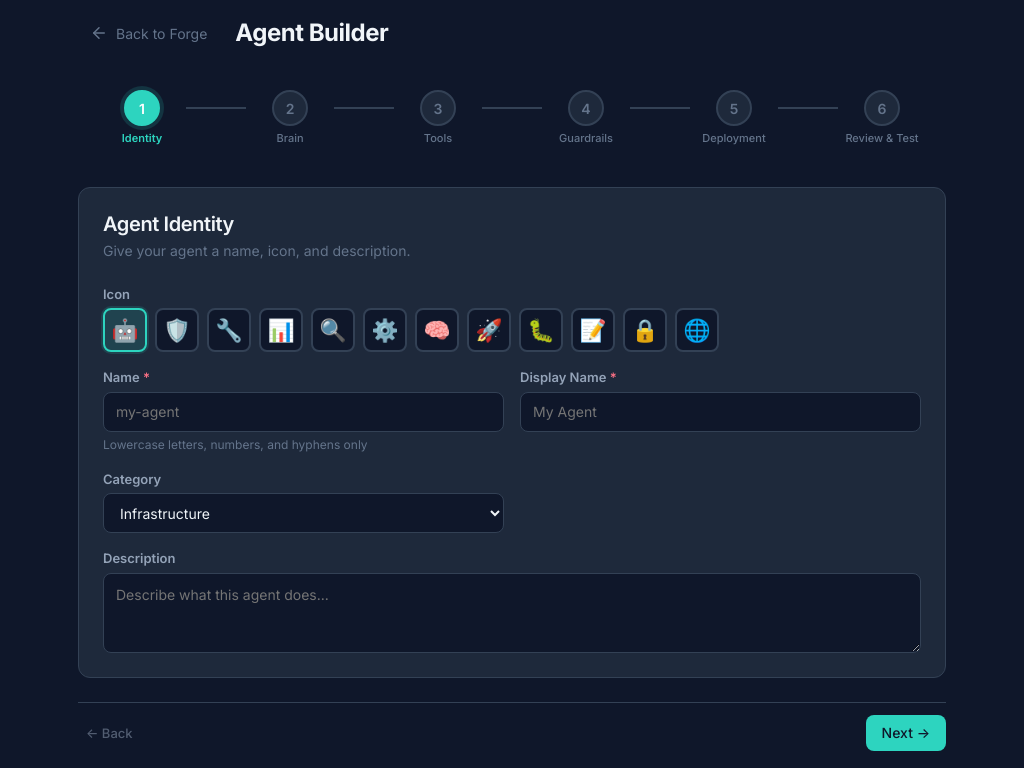
Test case: AgentBuilder › back button returns to previous step
# Advance to step 2
Type "test-agent" into the field with placeholder "my-agent" at x=304, y=412, box [103,392,504,432]
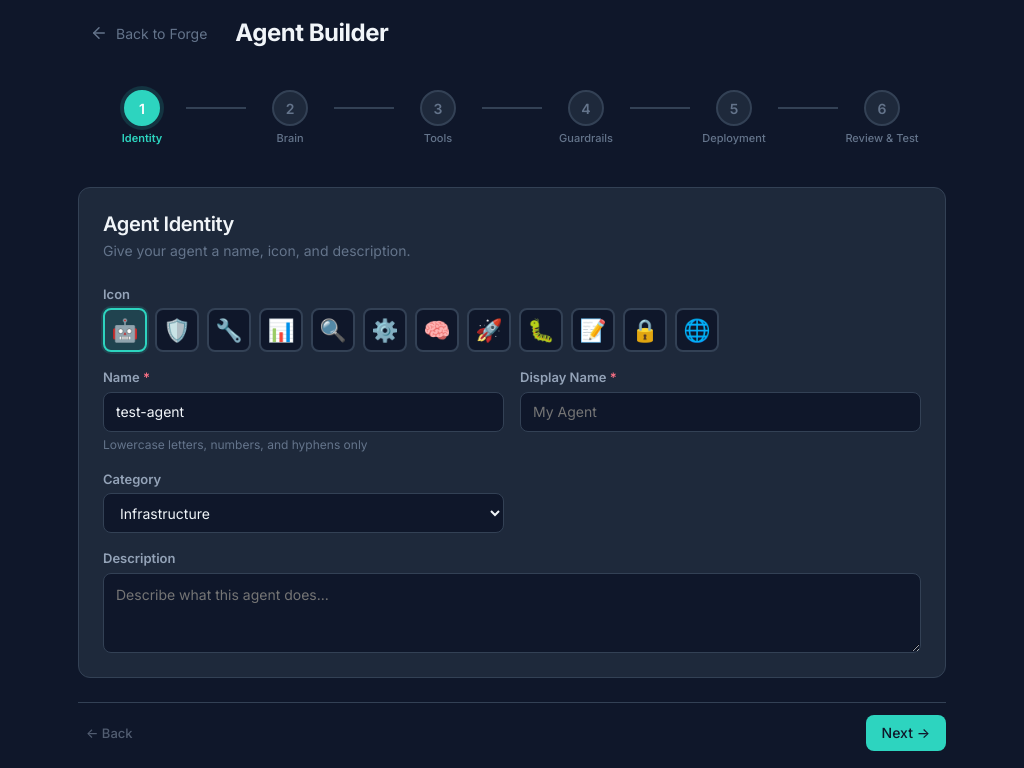
Type "Test Agent" into the field with placeholder "My Agent" at x=720, y=412, box [520,392,921,432]
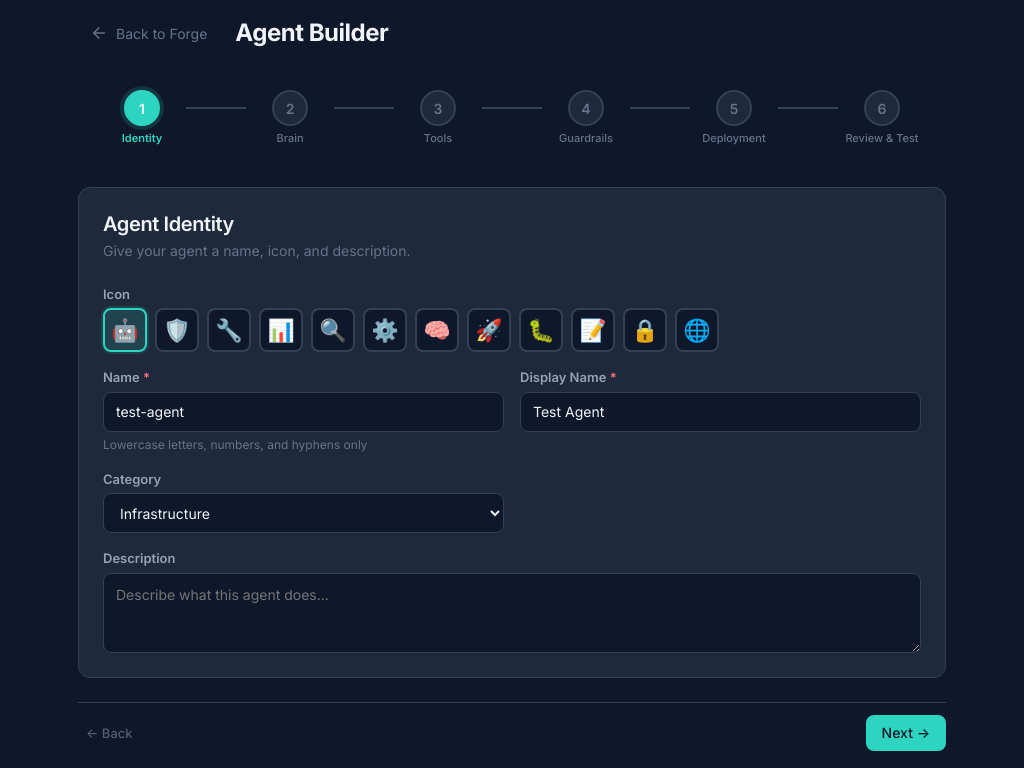
Click the button "Next →" at x=906, y=732, box [866,714,946,750]
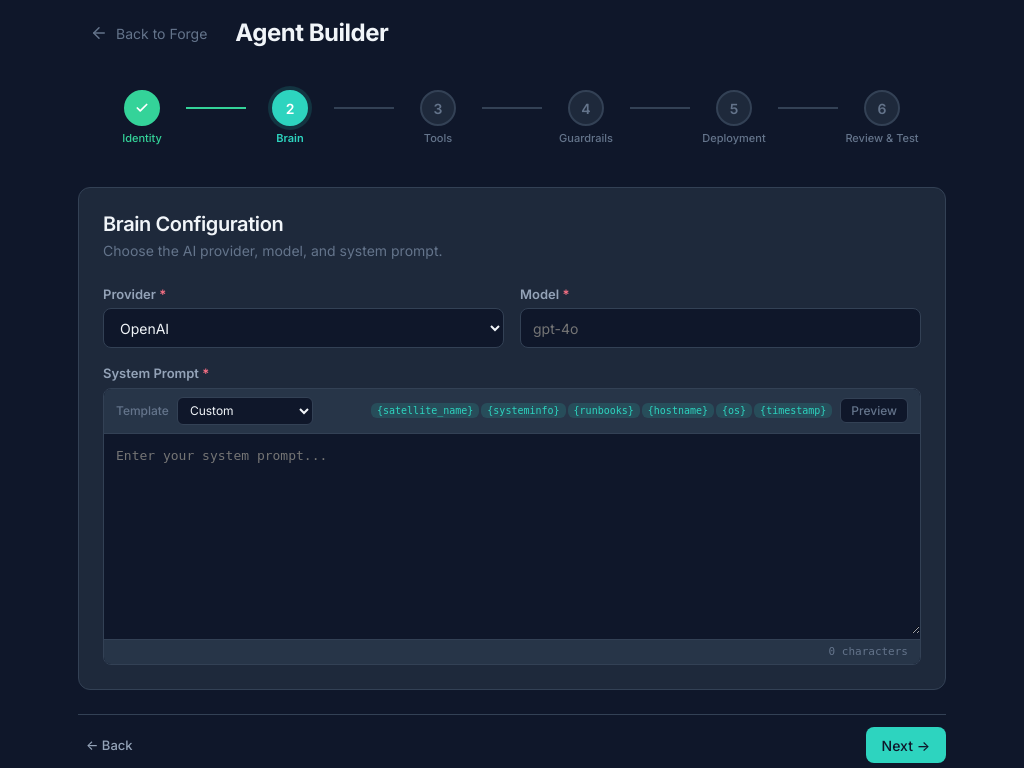
Check: the heading "Brain Configuration" is shown, box [103,212,283,236]
#  Go back
Click the button "← Back" at x=109, y=745, box [78,727,141,763]
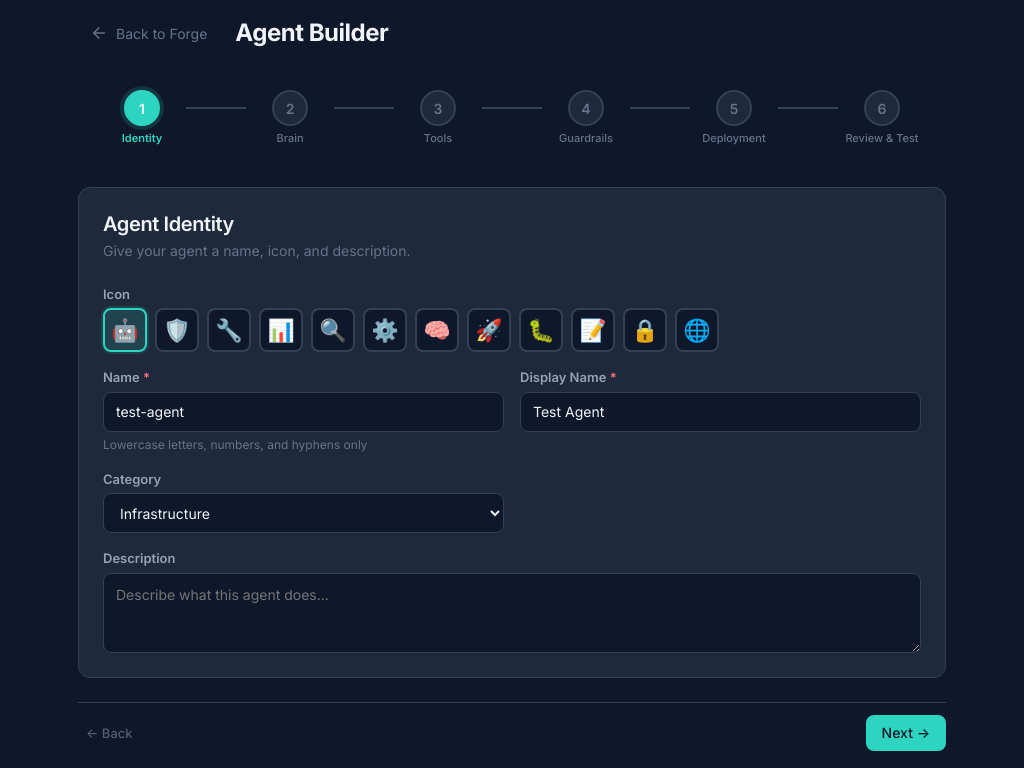
Check: the heading "Agent Identity" is shown, box [103,212,234,236]
